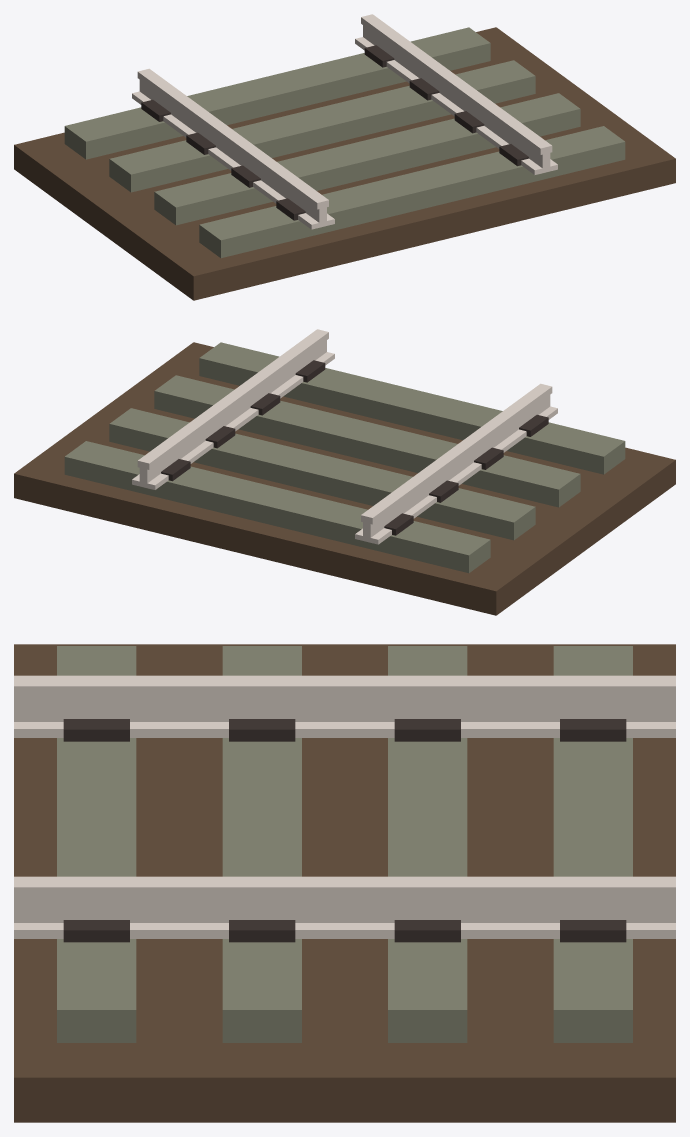
File: yard_track.fbx
The picture shows the model from 3 angles, top to bottom: view 1: azimuth 30°, elevation 25°; view 2: azimuth 150°, elevation 25°; view 3: azimuth 270°, elevation 25°; orthographic projection. The views are drawn at different scales.
Parts seen in each view (by area): view 1: a1060_YardTrack; view 2: a1060_YardTrack; view 3: a1060_YardTrack.
Boxes of the visible parts, x1=… form: a1060_YardTrack: x1=14, y1=14, x2=675, y2=300; a1060_YardTrack: x1=14, y1=329, x2=675, y2=615; a1060_YardTrack: x1=14, y1=644, x2=675, y2=1122.
Size of the model in its own units: 3.1 by 0.415 by 2.
